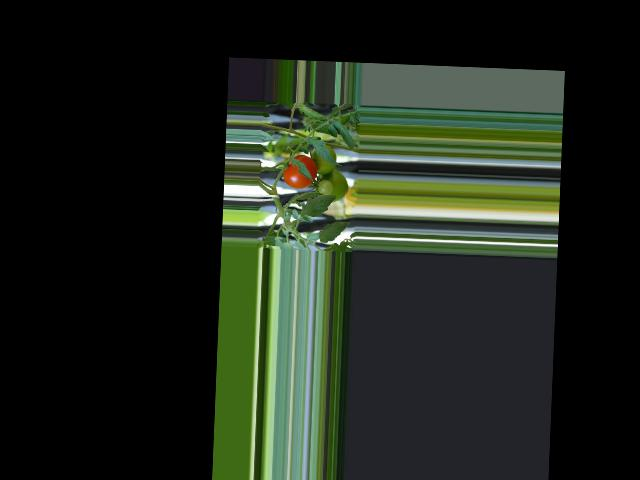tomato: (282, 154, 317, 190)
